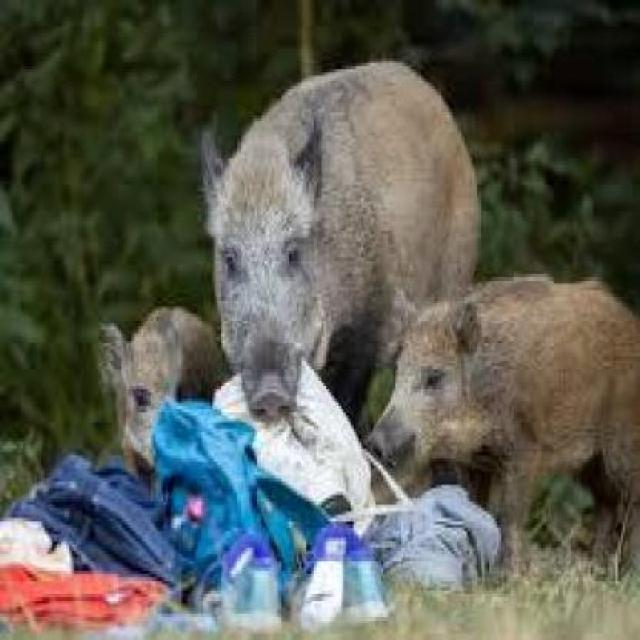wildboar: (192, 51, 490, 484), (354, 272, 640, 592), (85, 288, 244, 532)
